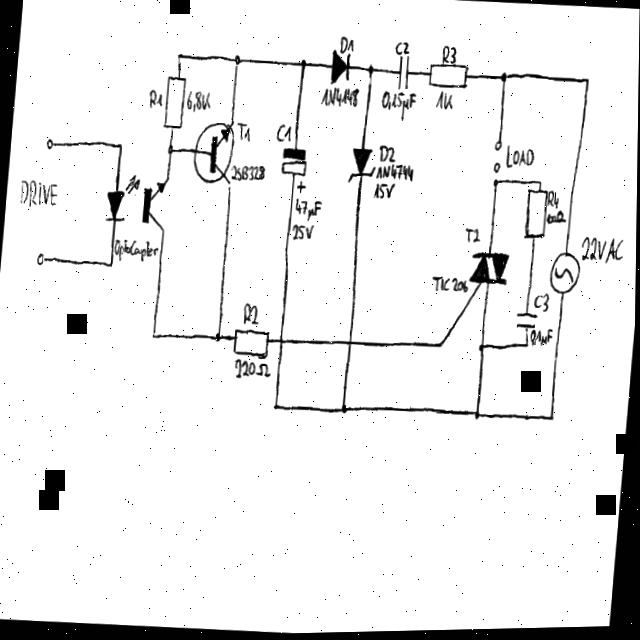capacitor: (278, 147, 309, 195), (395, 55, 411, 91), (514, 312, 539, 331)
crossover: (277, 336, 285, 346), (347, 339, 353, 348)
diode: (346, 147, 377, 186), (329, 46, 350, 86)
junction: (298, 58, 309, 72), (498, 72, 509, 85), (232, 53, 241, 68), (339, 404, 350, 415), (473, 411, 484, 421), (366, 65, 375, 77), (214, 331, 222, 343), (491, 180, 499, 190), (166, 143, 173, 154), (175, 50, 182, 61), (150, 329, 157, 340), (478, 344, 485, 353), (549, 415, 556, 424), (583, 78, 590, 87), (116, 141, 123, 150), (272, 403, 279, 412), (107, 260, 114, 268), (438, 342, 444, 349), (537, 180, 543, 186), (524, 343, 530, 349)
resistor: (161, 74, 186, 131), (522, 189, 548, 243), (232, 328, 270, 360), (426, 64, 468, 91)
source: (548, 251, 582, 297)
terminal: (35, 251, 47, 266), (491, 163, 500, 181), (44, 136, 55, 150), (493, 140, 502, 153)
text: (16, 177, 60, 209), (579, 237, 626, 266), (113, 237, 159, 263), (379, 90, 416, 122), (319, 86, 359, 109), (233, 358, 272, 380), (504, 144, 535, 171), (375, 163, 414, 183), (293, 197, 322, 223), (229, 163, 266, 183), (430, 276, 468, 295), (185, 89, 212, 113), (529, 330, 553, 352), (433, 90, 455, 112), (242, 302, 262, 326), (234, 121, 253, 144), (291, 223, 314, 242), (372, 182, 395, 201), (532, 293, 550, 314), (146, 88, 163, 110), (377, 145, 396, 164), (275, 123, 292, 144), (545, 211, 567, 227), (440, 45, 457, 65), (463, 228, 481, 245), (546, 191, 560, 211), (393, 41, 410, 56), (339, 36, 353, 54)
transistor: (190, 119, 235, 187)
